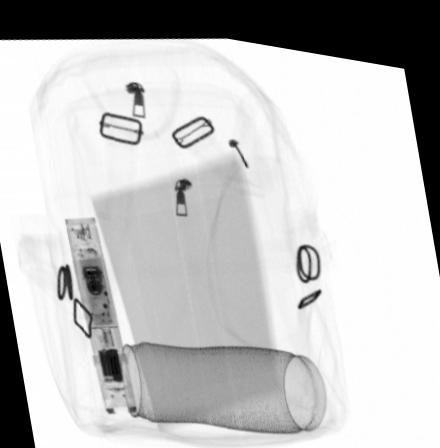Baton: (62, 213, 139, 410)
